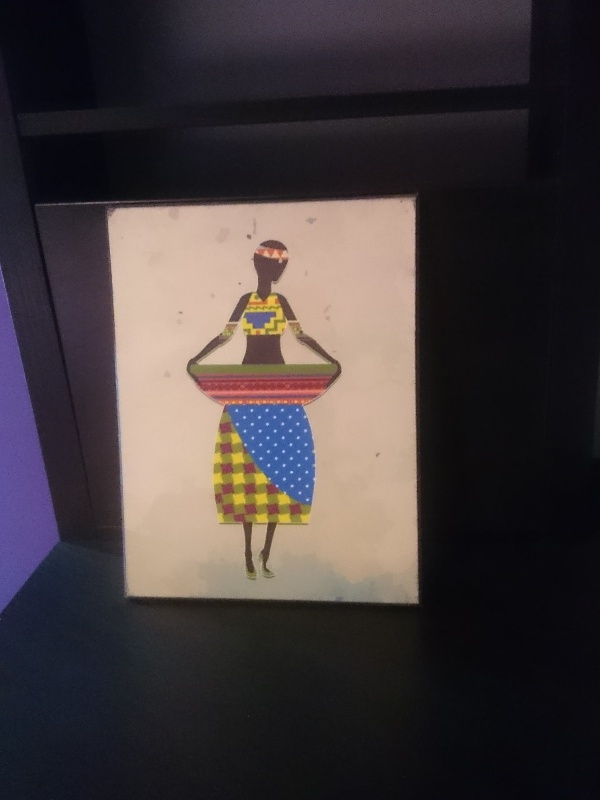my image: (121, 198, 416, 596)
